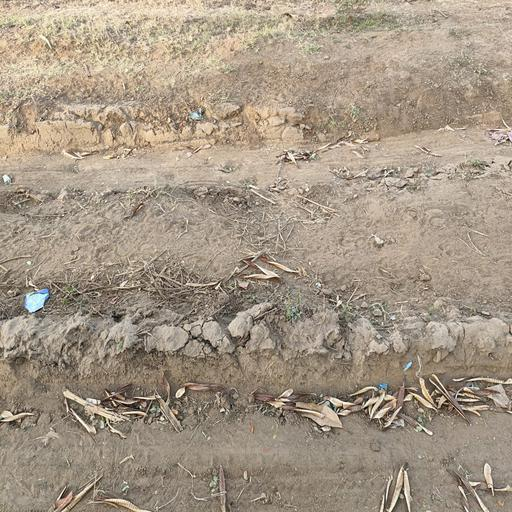vehicle_track: (0, 422, 512, 512), (0, 127, 512, 187)
